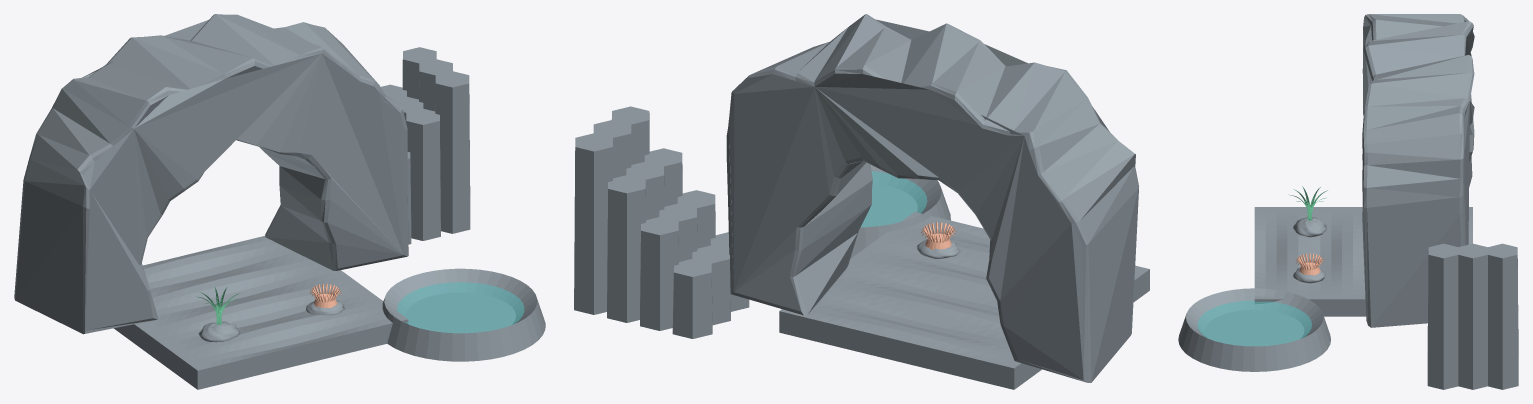
The model's file is rocky_headland_tropical_island_and_palm_trees_6865.glb.
3 views of the same model, side by side, from view 1: azimuth 30°, elevation 25°; view 2: azimuth 150°, elevation 25°; view 3: azimuth 270°, elevation 25° (orthographic). The views are drawn at different scales.
Visible parts, largest first — view 1: 001-sea-arch/0, 000-wave-cut-platform/0, 005-tide-pool-block/0, 005-tide-pool-block/1, 002-basalt-columns/11, 002-basalt-columns/10, 002-basalt-columns/3, 002-basalt-columns/7, 004-seaweed-on-rock/0; view 2: 001-sea-arch/0, 000-wave-cut-platform/0, 002-basalt-columns/3, 002-basalt-columns/2, 005-tide-pool-block/0, 002-basalt-columns/1, 002-basalt-columns/0, 005-tide-pool-block/1, 002-basalt-columns/4, 002-basalt-columns/7, 002-basalt-columns/9, 002-basalt-columns/10 (+4 smaller); view 3: 001-sea-arch/0, 005-tide-pool-block/0, 000-wave-cut-platform/0, 002-basalt-columns/11, 002-basalt-columns/3, 002-basalt-columns/7, 005-tide-pool-block/1, 004-seaweed-on-rock/0, 003-rockpool-anemone/0.
Part boxes in pixels (x1,y1,x2,y2): 001-sea-arch/0: (14, 14, 408, 334); 000-wave-cut-platform/0: (114, 236, 408, 389); 005-tide-pool-block/0: (382, 268, 545, 361); 005-tide-pool-block/1: (397, 282, 524, 333); 002-basalt-columns/11: (435, 71, 470, 233); 002-basalt-columns/10: (406, 108, 440, 240); 002-basalt-columns/3: (402, 47, 436, 99); 002-basalt-columns/7: (419, 59, 452, 111); 004-seaweed-on-rock/0: (198, 321, 240, 342); 001-sea-arch/0: (726, 14, 1138, 382); 000-wave-cut-platform/0: (779, 212, 1149, 389); 002-basalt-columns/3: (574, 133, 612, 314); 002-basalt-columns/2: (607, 175, 645, 322); 005-tide-pool-block/0: (850, 164, 950, 258); 002-basalt-columns/1: (640, 217, 678, 330); 002-basalt-columns/0: (672, 259, 712, 338); 005-tide-pool-block/1: (861, 171, 927, 227); 002-basalt-columns/4: (692, 245, 730, 325); 002-basalt-columns/7: (593, 120, 631, 178); 002-basalt-columns/9: (677, 190, 715, 248); 002-basalt-columns/10: (644, 148, 682, 206); 001-sea-arch/0: (1362, 14, 1474, 327); 005-tide-pool-block/0: (1178, 288, 1330, 371); 000-wave-cut-platform/0: (1254, 207, 1472, 316); 002-basalt-columns/11: (1427, 243, 1458, 389); 002-basalt-columns/3: (1487, 243, 1518, 389); 002-basalt-columns/7: (1458, 243, 1488, 389); 005-tide-pool-block/1: (1197, 300, 1311, 346); 004-seaweed-on-rock/0: (1293, 216, 1326, 237); 003-rockpool-anemone/0: (1293, 267, 1325, 283).
Size of the model in its own units: 8.42 by 4.66 by 6.23.
